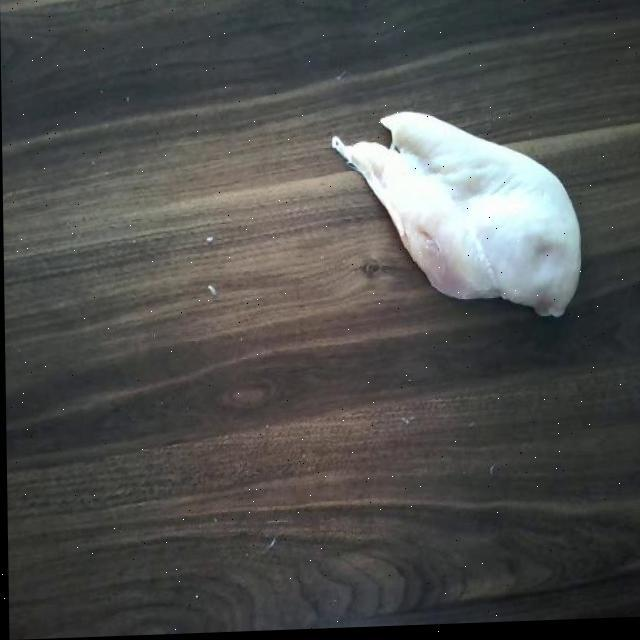breast: (327, 105, 583, 338)
